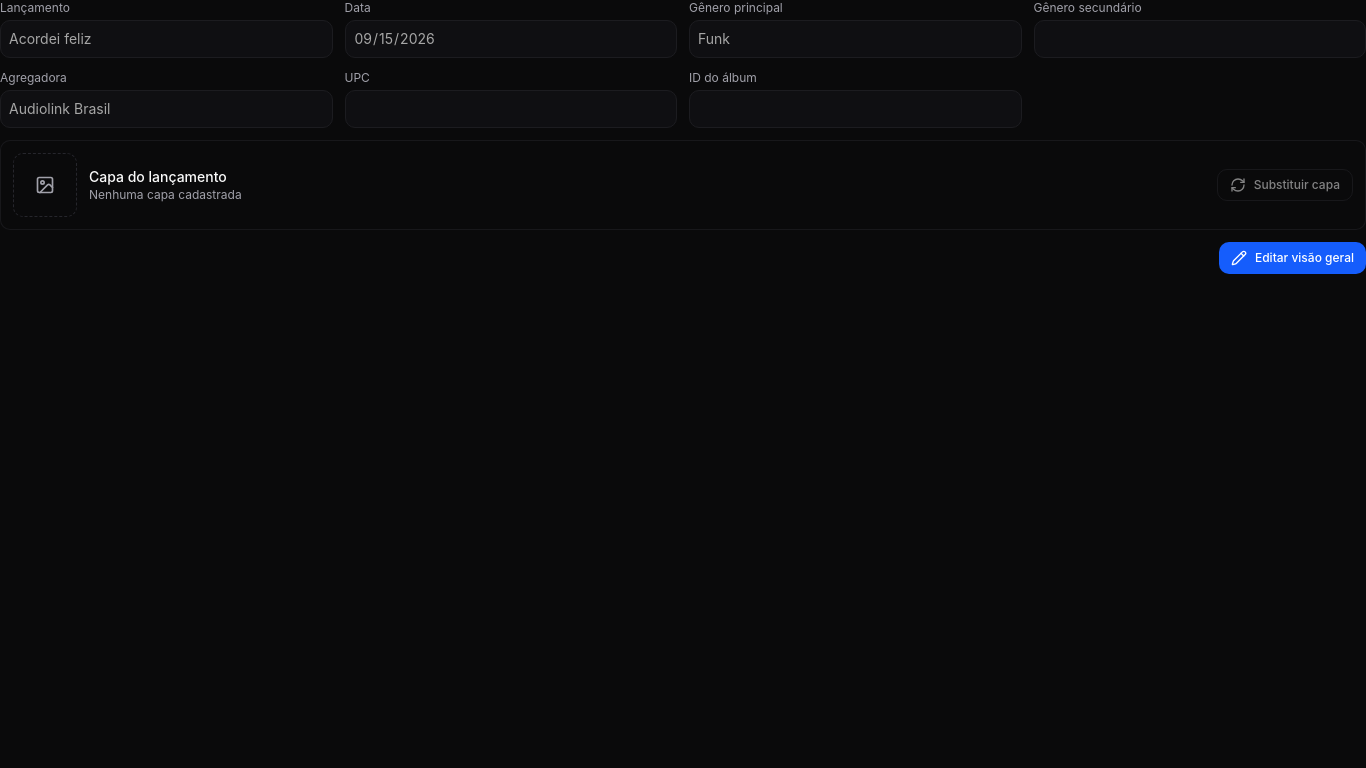
ReleaseMetadataForm › requires confirmation before saving a changed release date
Check: the date field labelled "Data" is disabled, box [344,20,677,58]
Click the button "Editar visão geral".
click(1292, 258)  # box [1219,242,1365,274]
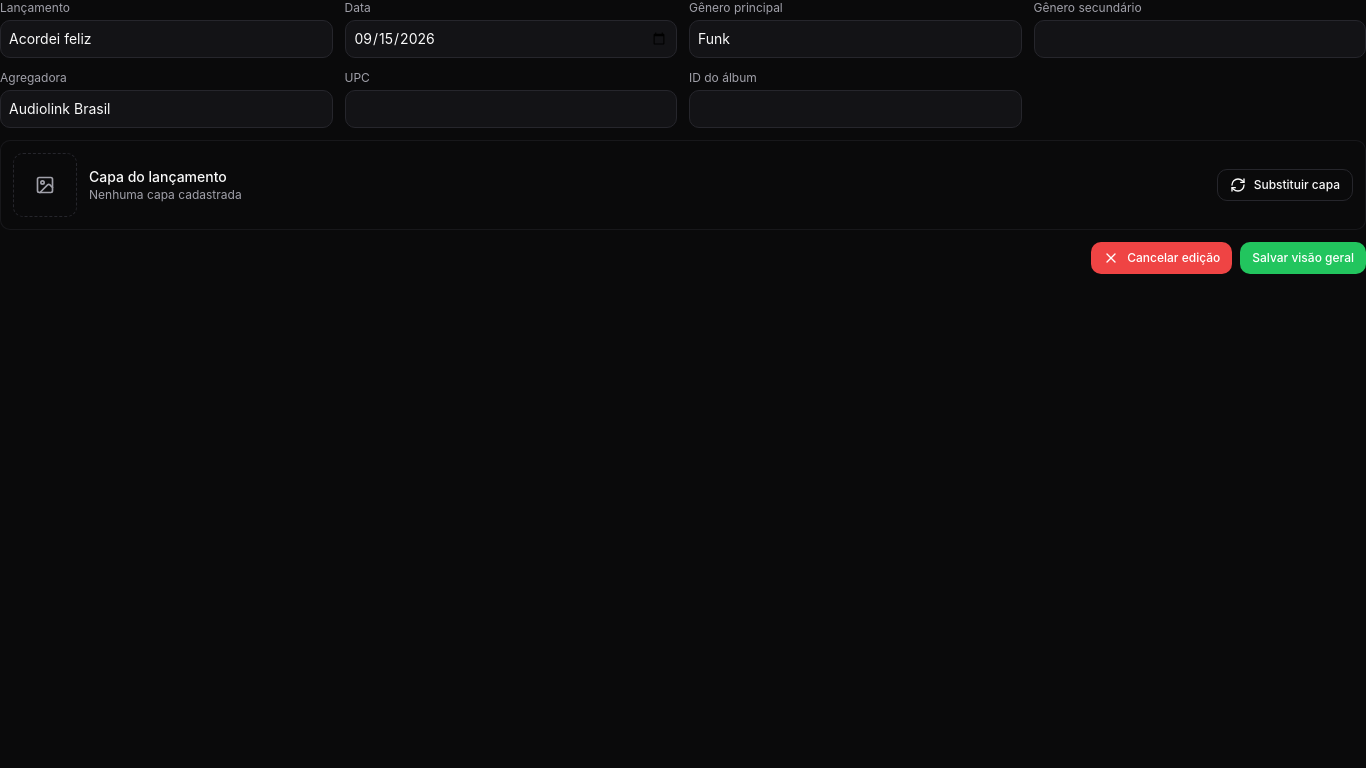
Type "2026-09-20" into the date field labelled "Data".
click(511, 39); type("2026-09-20")  # box [344,20,677,58]
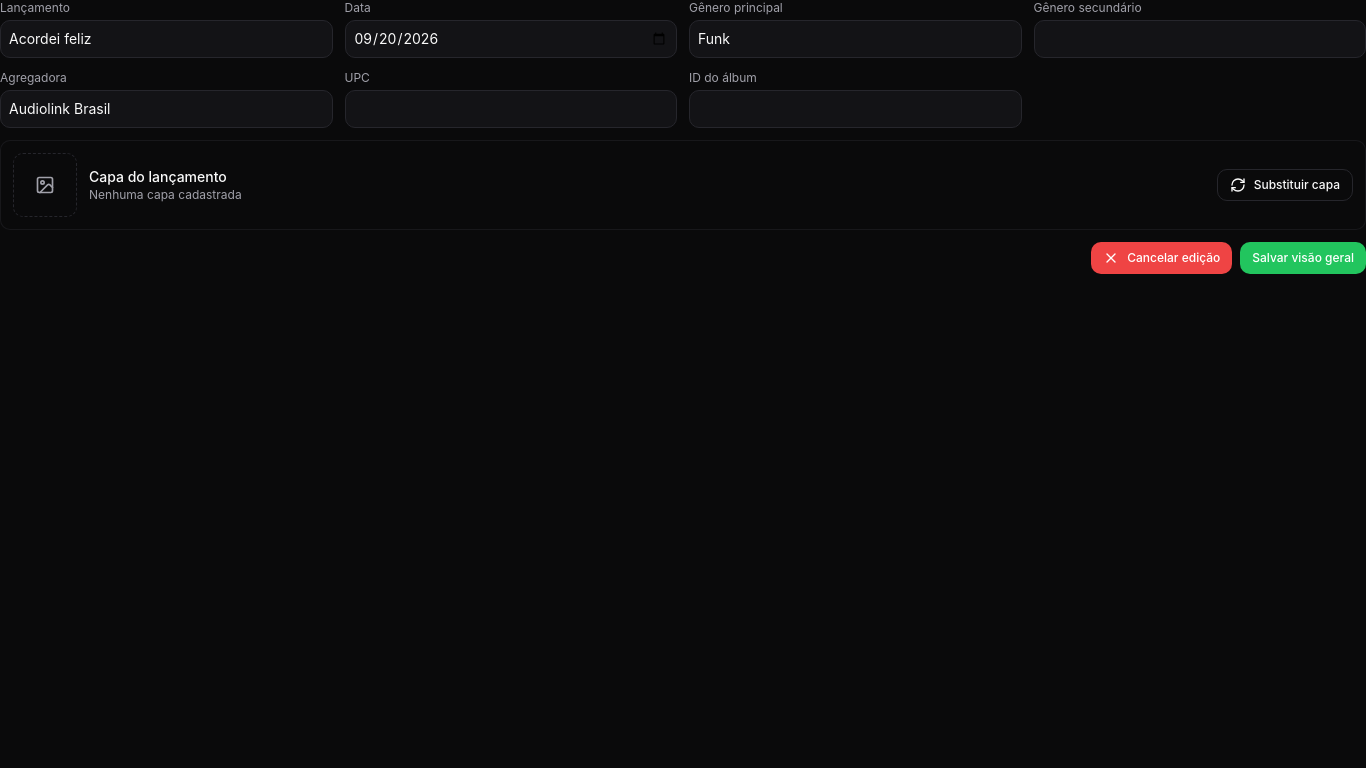
Click the button "Salvar visão geral".
click(1303, 258)  # box [1240,242,1365,274]
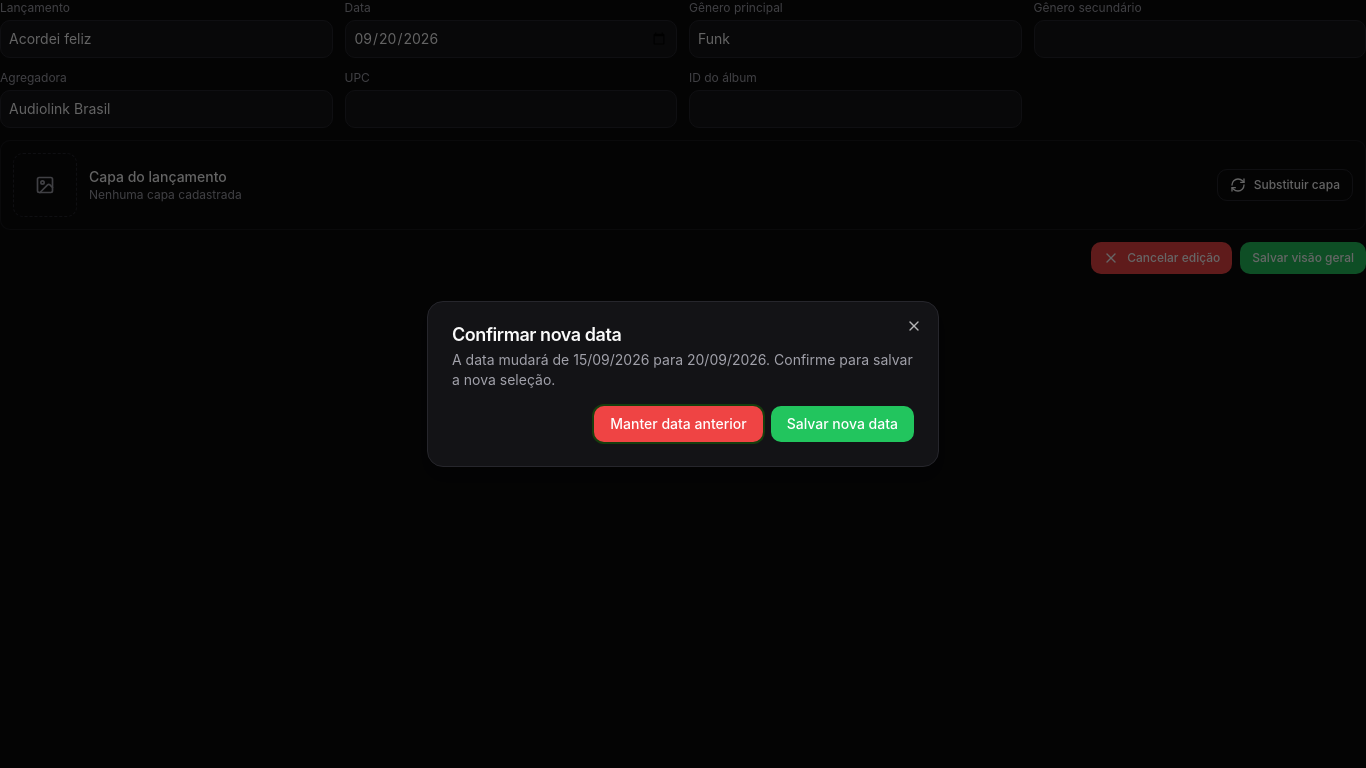
Check: the dialog "Confirmar nova data" is shown, box [427,301,939,467]
Check: the text "15/09/2026" is shown, box [573,351,649,368]
Check: the text "20/09/2026" is shown, box [687,351,766,368]
